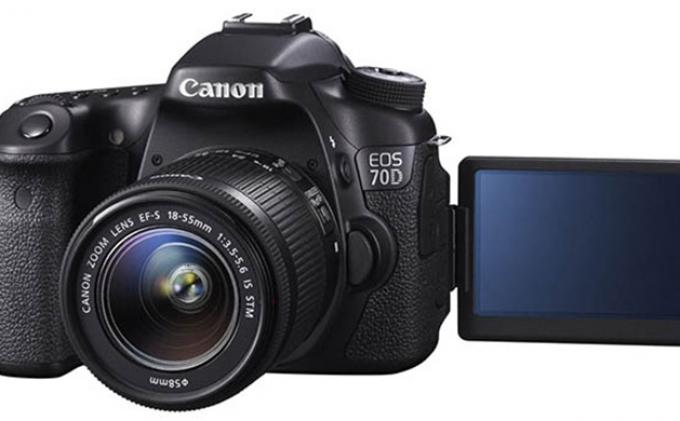kamera: (3, 6, 677, 421)
